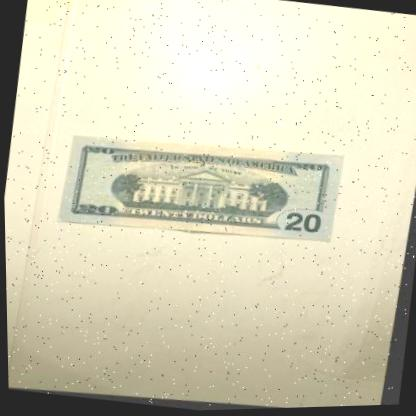twenty-back: (56, 121, 347, 261)
